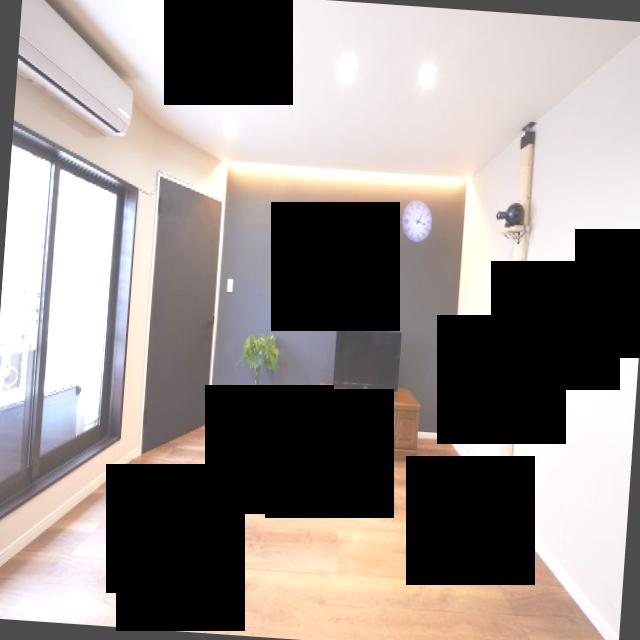vintage shelf: (312, 380, 421, 462)
